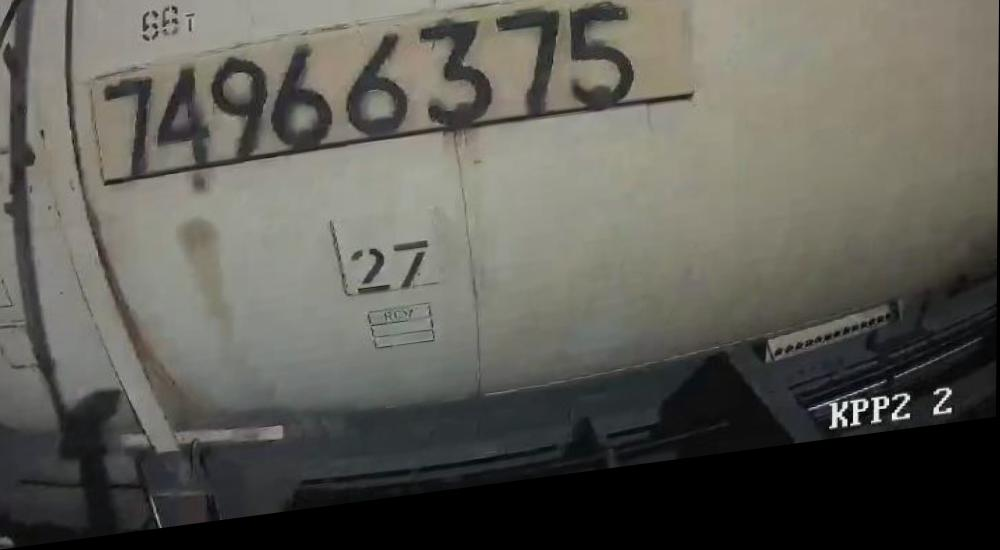Wagon-number: (99, 7, 643, 196)
